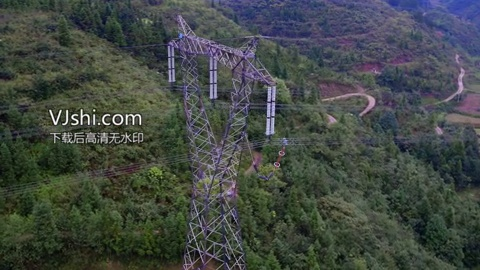tower_body: (159, 7, 279, 270)
tower_foot: (184, 229, 249, 270)
tower_head: (163, 10, 276, 196)
